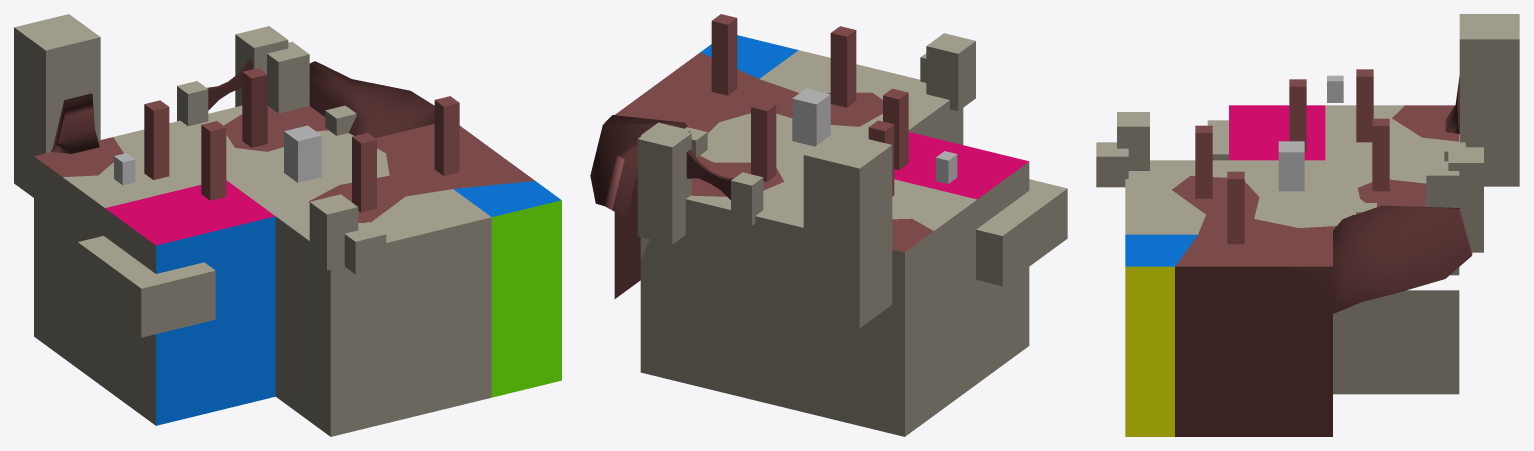
Rendered from NIVEL1NEWprueba.fbx.
The picture shows the model from 3 angles, left to right: view 1: azimuth 30°, elevation 25°; view 2: azimuth 150°, elevation 25°; view 3: azimuth 270°, elevation 25°; orthographic projection. The views are drawn at different scales.
Visible parts, largest first — view 1: Scenario1, pCube152, pCube154, pCube158, pCube157, pCube160, pCube51, pCube34, pCube31, pCube12, Gachapon1, pCube33 (+6 smaller); view 2: Scenario1, pCube152, pCube154, pCube153, pCube158, pCube33, pCube31, Gachapon1, pCube51, pCube155, pCube34, pCube161 (+2 smaller); view 3: Scenario1, pCube152, pCube153, pCube158, pCube157, pCube159, Gachapon1, pCube33, pCube31, pCube51, pCube12, pCube34 (+3 smaller).
Boxes of the visible parts, <box> form: Scenario1: <box>34,61,561,436</box>; pCube152: <box>14,14,100,197</box>; pCube154: <box>77,236,215,337</box>; pCube158: <box>309,194,358,270</box>; pCube157: <box>267,41,309,113</box>; pCube160: <box>51,93,99,153</box>; pCube51: <box>242,68,267,147</box>; pCube34: <box>201,121,226,200</box>; pCube31: <box>434,96,459,175</box>; pCube12: <box>144,100,169,179</box>; Gachapon1: <box>284,125,321,182</box>; pCube33: <box>352,133,376,212</box>; Scenario1: <box>590,35,1029,436</box>; pCube152: <box>803,131,892,328</box>; pCube154: <box>976,179,1067,286</box>; pCube153: <box>637,125,691,244</box>; pCube158: <box>926,33,975,111</box>; pCube33: <box>830,26,856,107</box>; pCube31: <box>711,14,737,95</box>; Gachapon1: <box>792,88,830,146</box>; pCube51: <box>751,100,776,181</box>; pCube155: <box>731,172,763,225</box>; pCube34: <box>883,88,908,169</box>; pCube161: <box>686,149,733,199</box>; Scenario1: <box>1125,105,1472,436</box>; pCube152: <box>1459,14,1519,186</box>; pCube153: <box>1448,147,1483,252</box>; pCube158: <box>1117,112,1149,170</box>; pCube157: <box>1426,161,1459,207</box>; pCube159: <box>1096,142,1128,187</box>; Gachapon1: <box>1278,141,1304,191</box>; pCube33: <box>1195,125,1212,198</box>; pCube31: <box>1227,171,1244,244</box>; pCube51: <box>1372,118,1389,191</box>; pCube12: <box>1356,69,1373,142</box>; pCube34: <box>1289,79,1306,151</box>.
Size of the model in its own units: 56.87 by 40.81 by 58.63.
